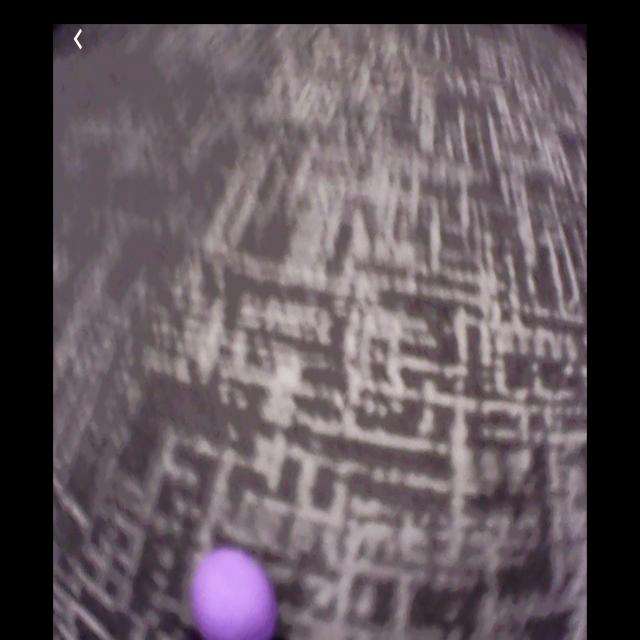ball: (194, 552, 276, 640)
